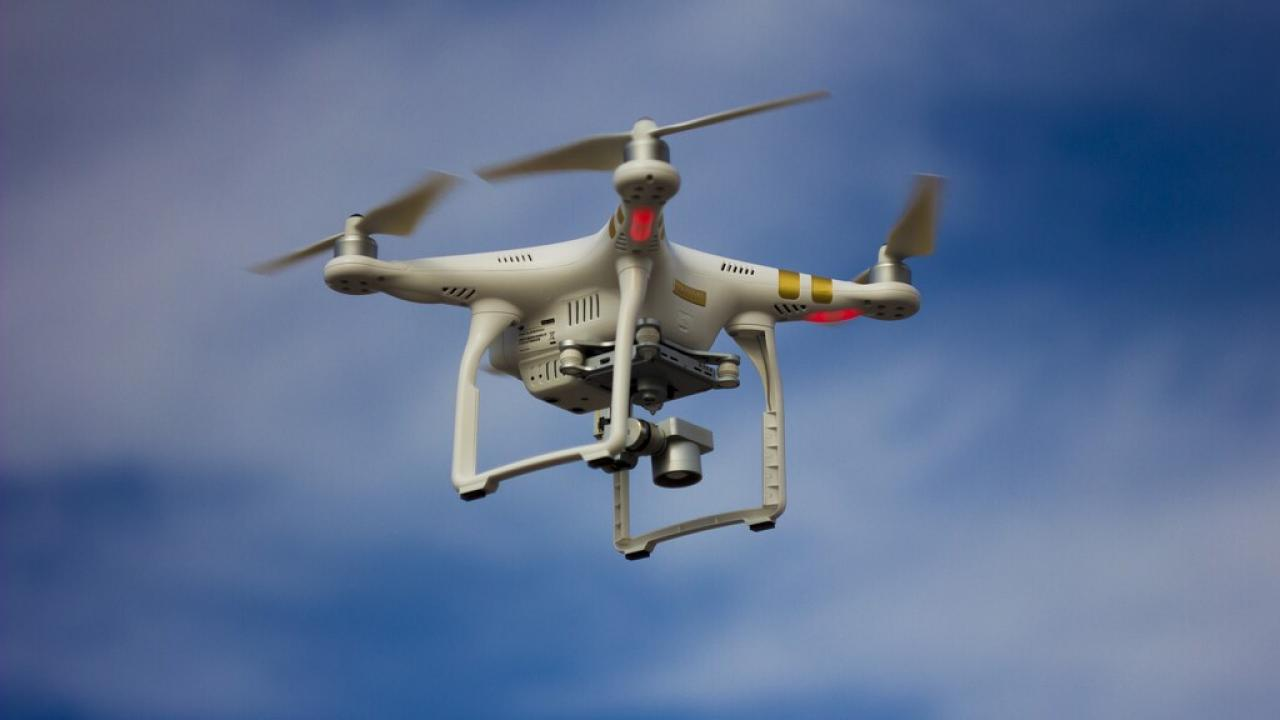Drone: (217, 72, 969, 579)
